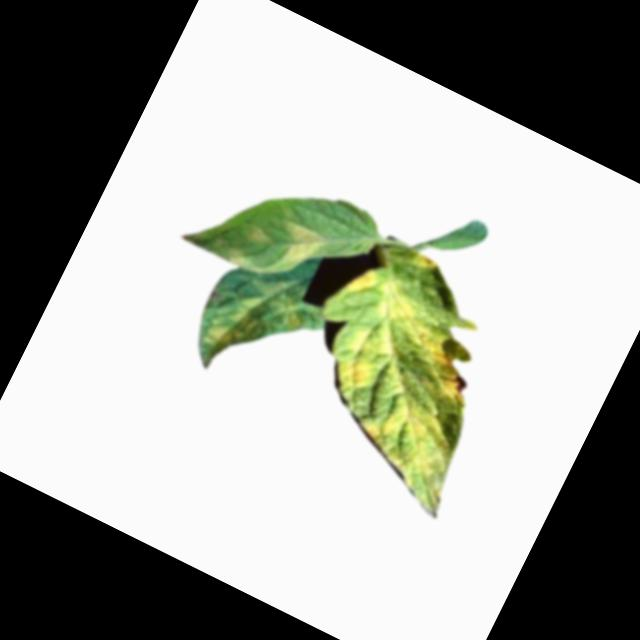Leaf_Mold: (269, 228, 540, 519), (191, 254, 318, 390), (270, 218, 331, 283), (240, 219, 277, 251)
